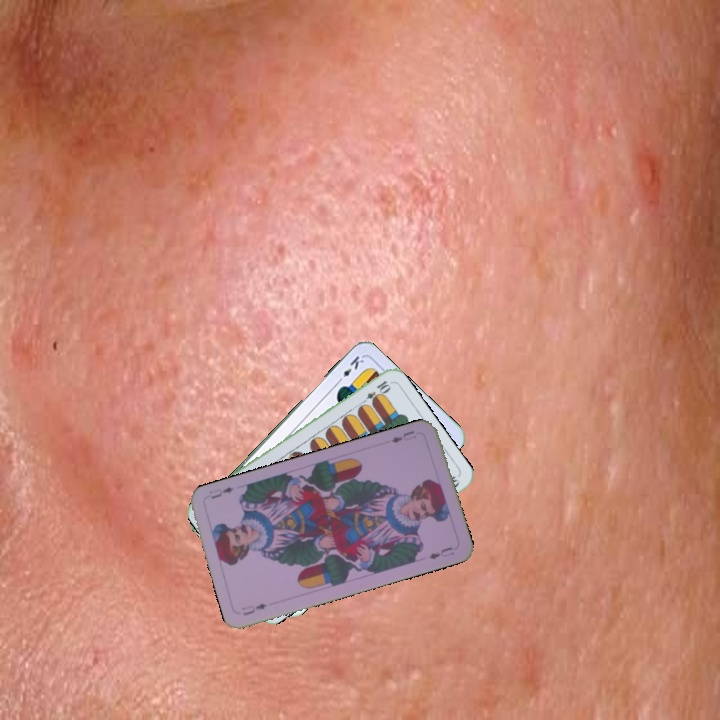E10: (356, 376, 393, 408)
EK: (333, 352, 367, 386)
EU: (387, 426, 418, 446), (237, 599, 269, 618)
